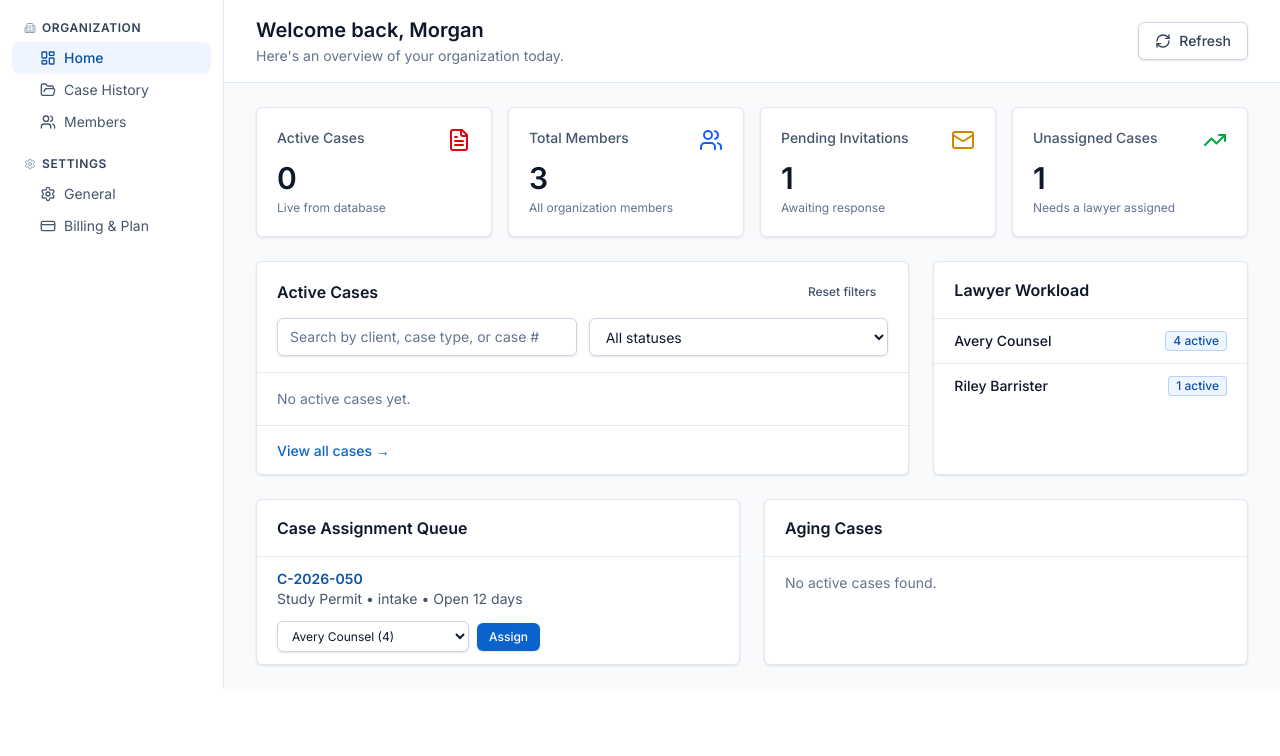
Test: AdminDashboard members › CT-ADMIN-06: filters members by name and resets the filter
expect the heading "Welcome back, Morgan" is shown: met, box x1=256 y1=18 x2=484 y2=42
Click the button "Members" at [112, 122], box x1=12 y1=106 x2=211 y2=138
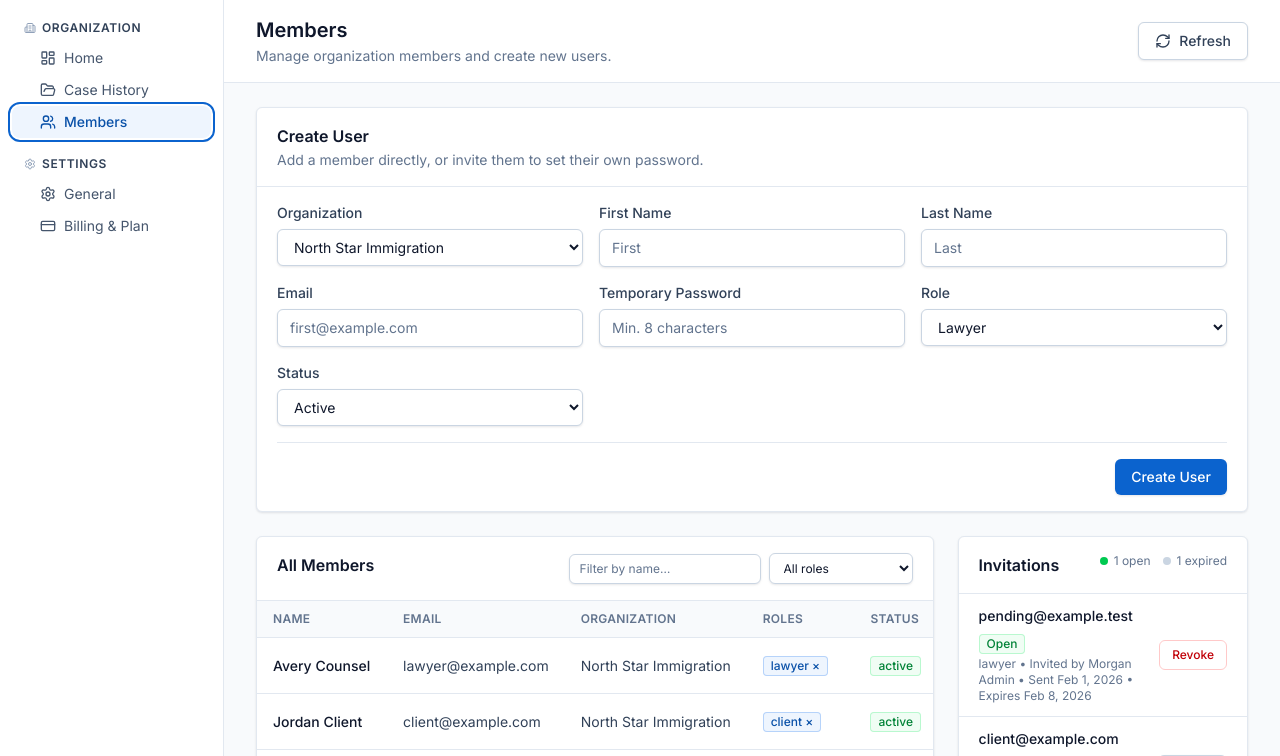
expect the heading "Members" is shown: met, box x1=256 y1=18 x2=348 y2=42
Type "avery" into the field labelled "Filter by name" at [665, 568], box x1=569 y1=554 x2=761 y2=584
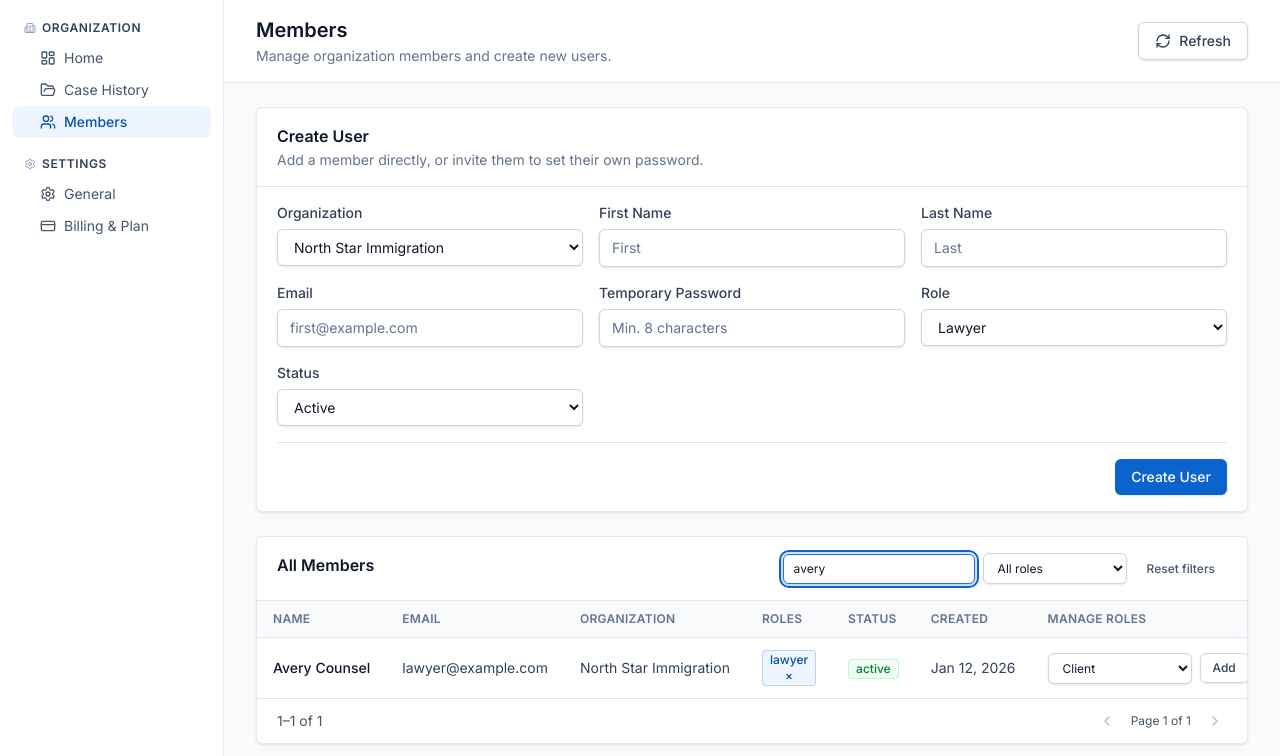
expect the cell "Avery Counsel" is shown: met, box x1=257 y1=638 x2=386 y2=698
expect the cell "Jordan Client" is gone: met
Click the button "Reset filters" at [1181, 568], box x1=1135 y1=554 x2=1227 y2=582
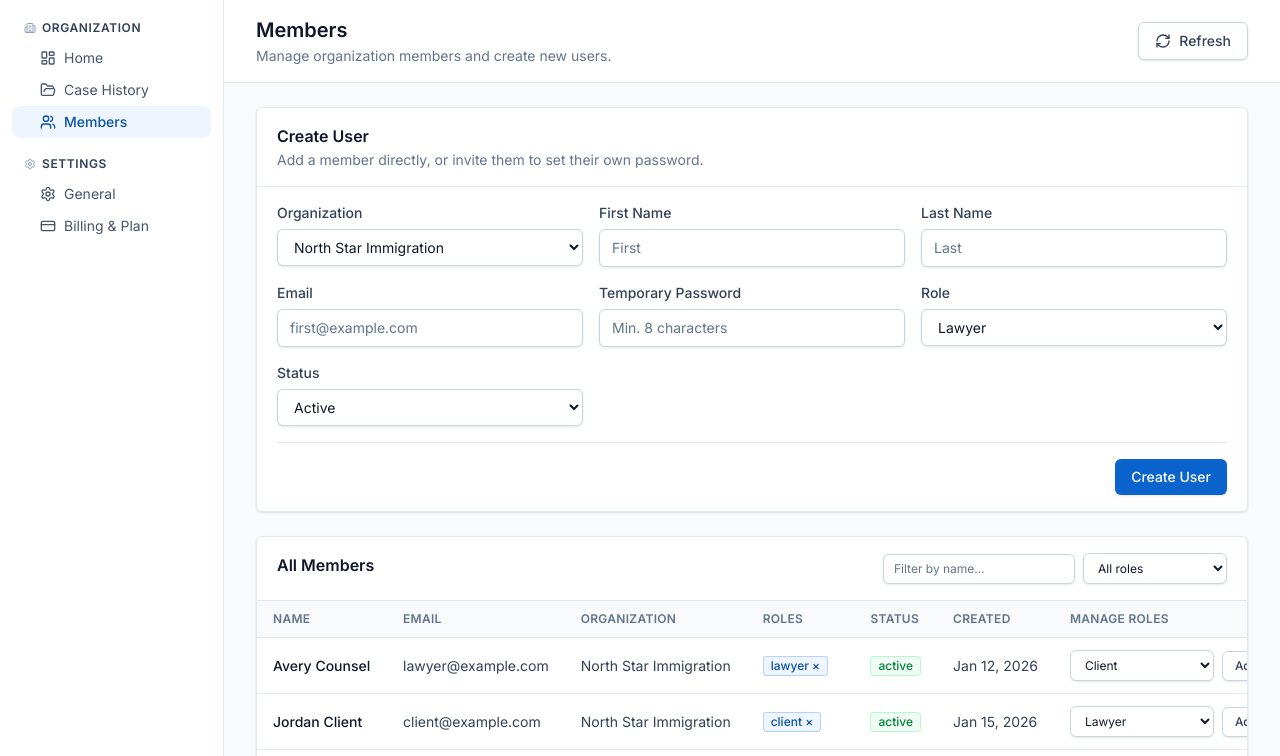
expect the cell "Jordan Client" is shown: met, box x1=257 y1=694 x2=387 y2=750
